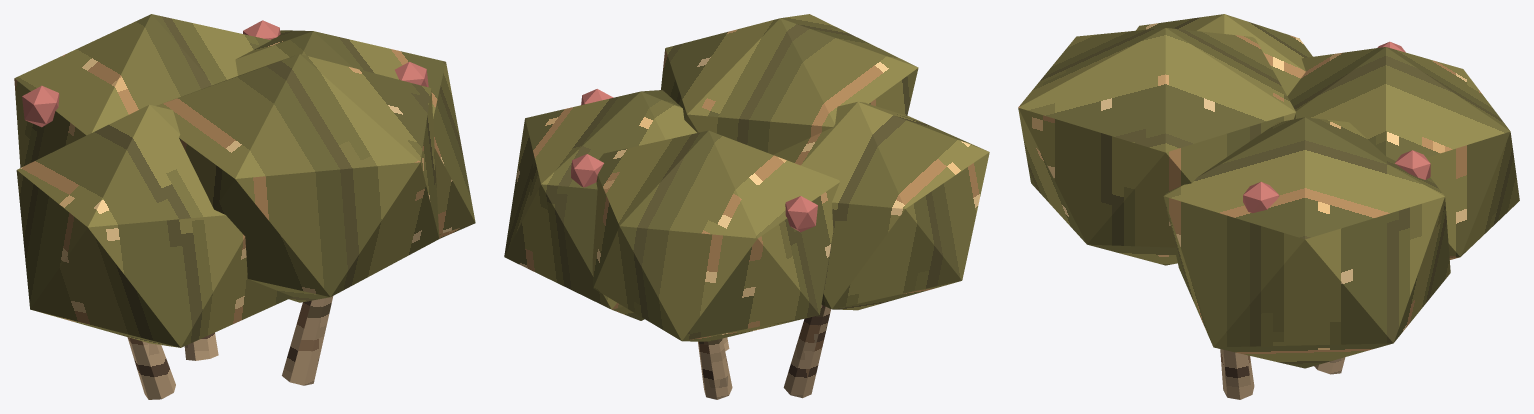
The model's file is arbusto.glb.
3 views of the same model, side by side, from view 1: azimuth 30°, elevation 25°; view 2: azimuth 150°, elevation 25°; view 3: azimuth 270°, elevation 25° (orthographic). The views are drawn at different scales.
Parts seen in each view (by area): view 1: deserto_arbusto; view 2: deserto_arbusto; view 3: deserto_arbusto.
Part boxes in pixels (left/top/right/bottom): deserto_arbusto: left=14, top=14, right=475, bottom=399; deserto_arbusto: left=504, top=14, right=989, bottom=399; deserto_arbusto: left=1018, top=14, right=1519, bottom=399.
Bounding box in the file's own units: 0.6892 × 0.5252 × 0.6839.
3 materials, 2 textured.
